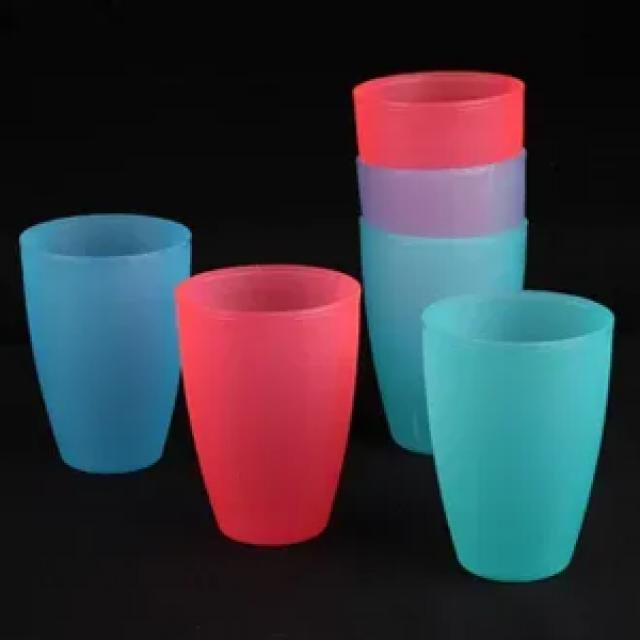plastic cup: (346, 60, 536, 461), (416, 279, 619, 591), (173, 256, 373, 553), (17, 207, 198, 482)
